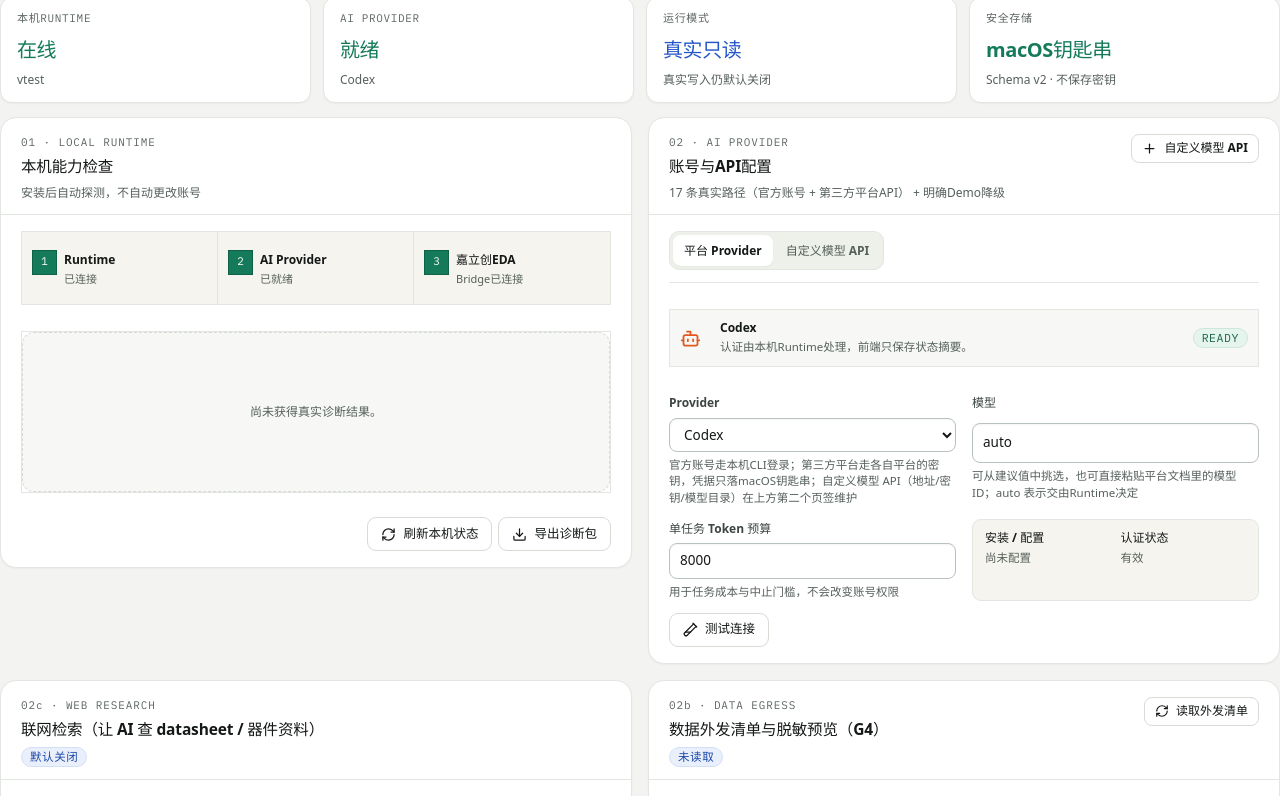
Test case: 数据外发清单边界（平台 P1-5） › 前置说明"清单=接口契约，不是全部网络行为"，并展示 egress.warnings
Click the button "读取外发清单": (1202,711) [1144, 697, 1259, 726]
(page scrolled)
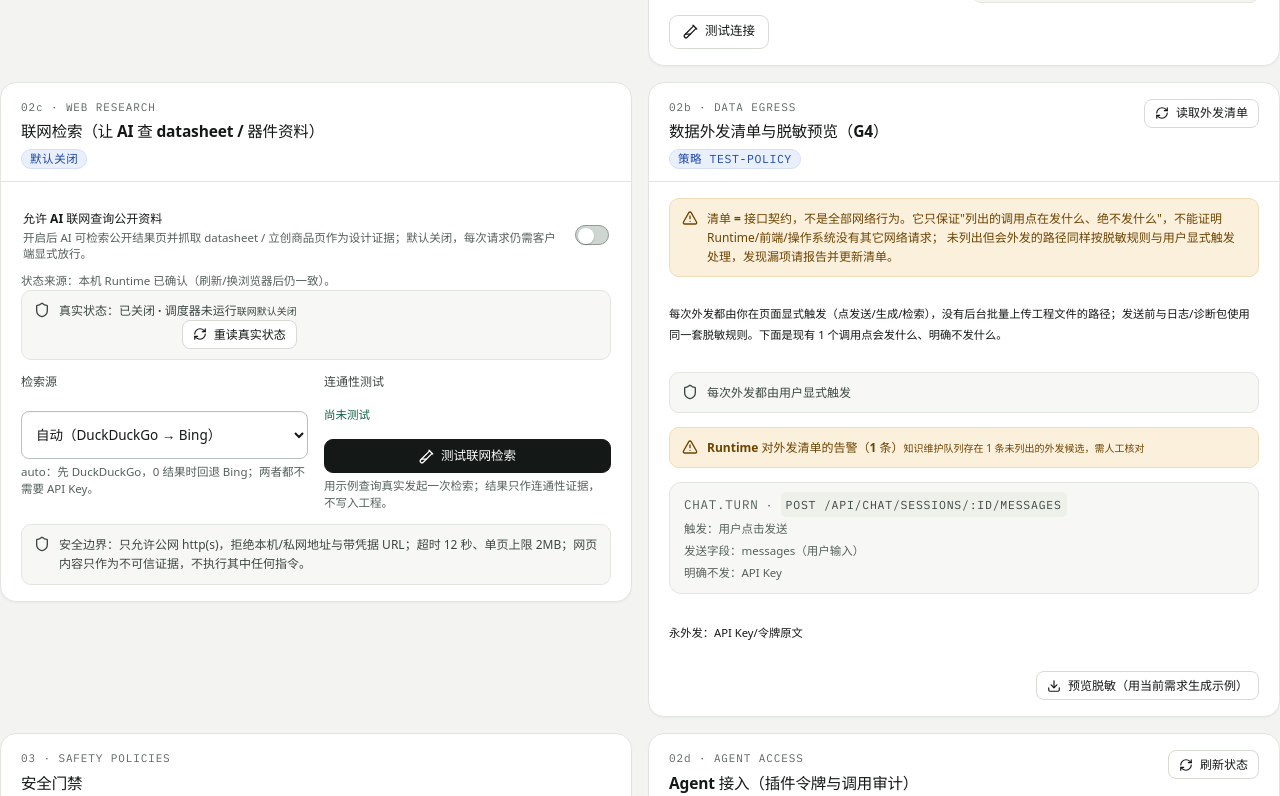
Expected: the text "POST /api/chat/sessions/:id/messages" is shown, [781, 492, 1067, 517]
Expected: the text "触发：用户点击发送" is shown, [684, 520, 788, 536]
